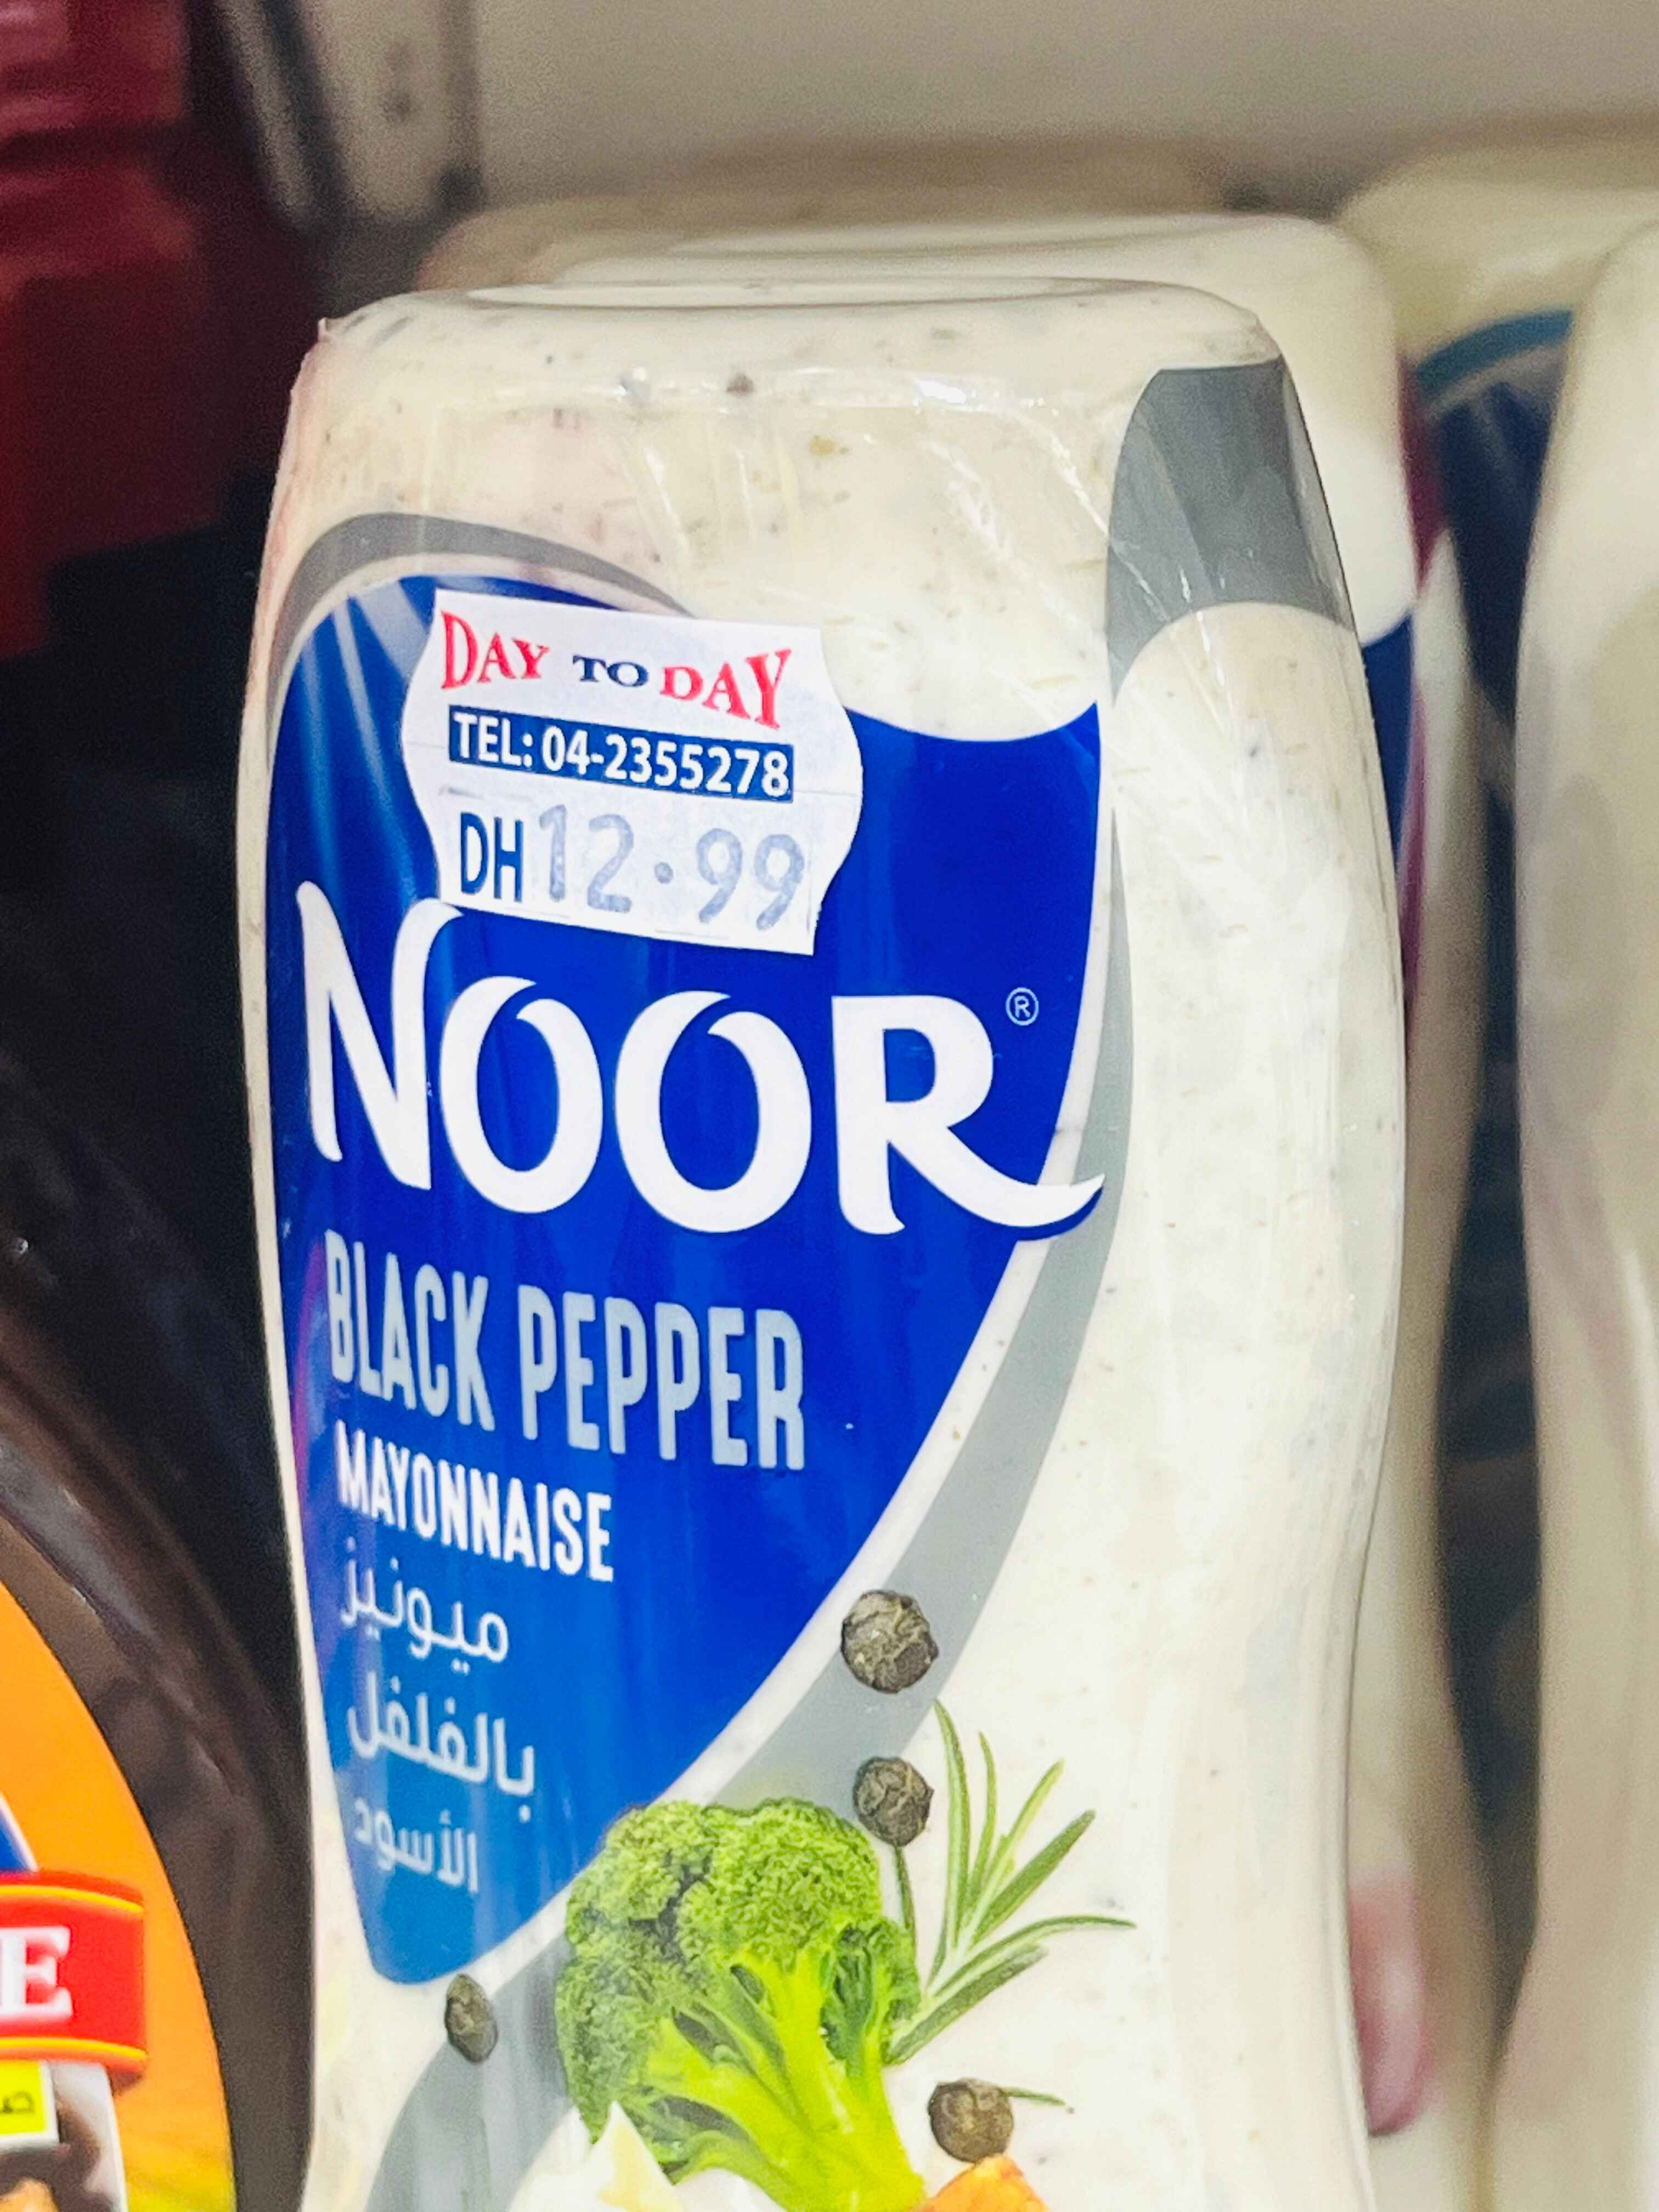PriceTagSmall: (392, 589, 880, 961)
